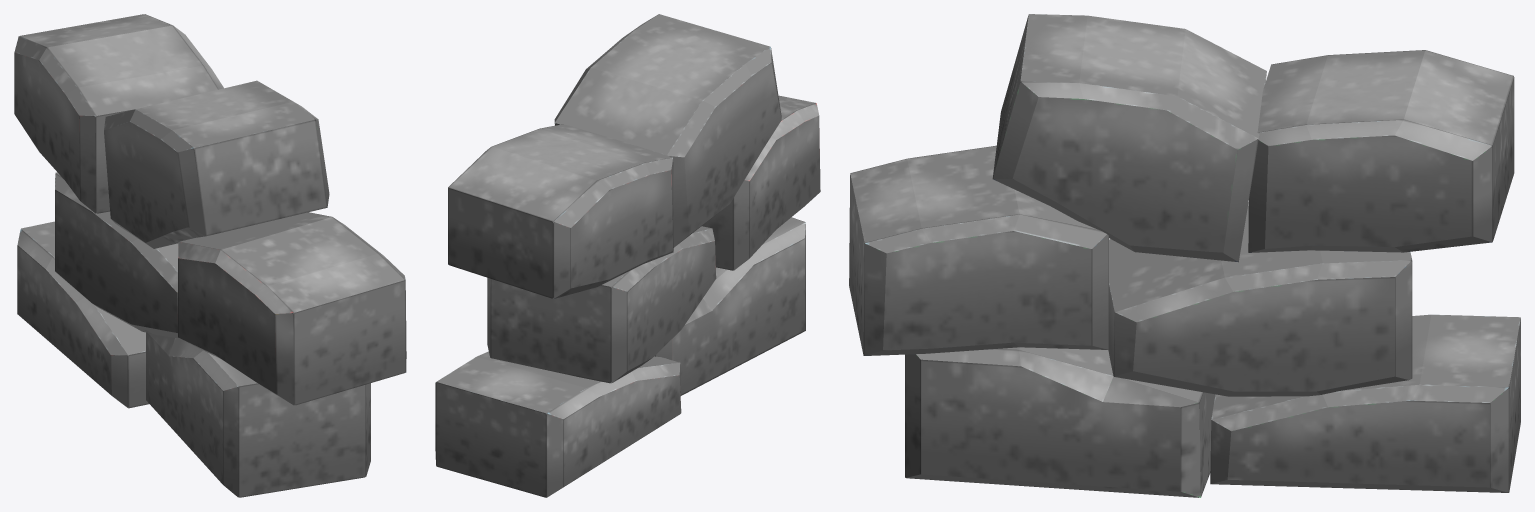
The model's file is Stone Wall.fbx.
3 views of the same model, side by side, from view 1: azimuth 30°, elevation 25°; view 2: azimuth 150°, elevation 25°; view 3: azimuth 270°, elevation 25° (orthographic). The views are drawn at different scales.
Visible parts, largest first — view 1: cuboid; view 2: cuboid; view 3: cuboid.
Part boxes in pixels (<box>): cuboid: <box>14,14,406,497</box>; cuboid: <box>435,14,820,497</box>; cuboid: <box>849,14,1520,497</box>.
Bounding box in the file's own units: 45.01 × 81.77 × 126.
Materials: 1 (1 with a texture image).
